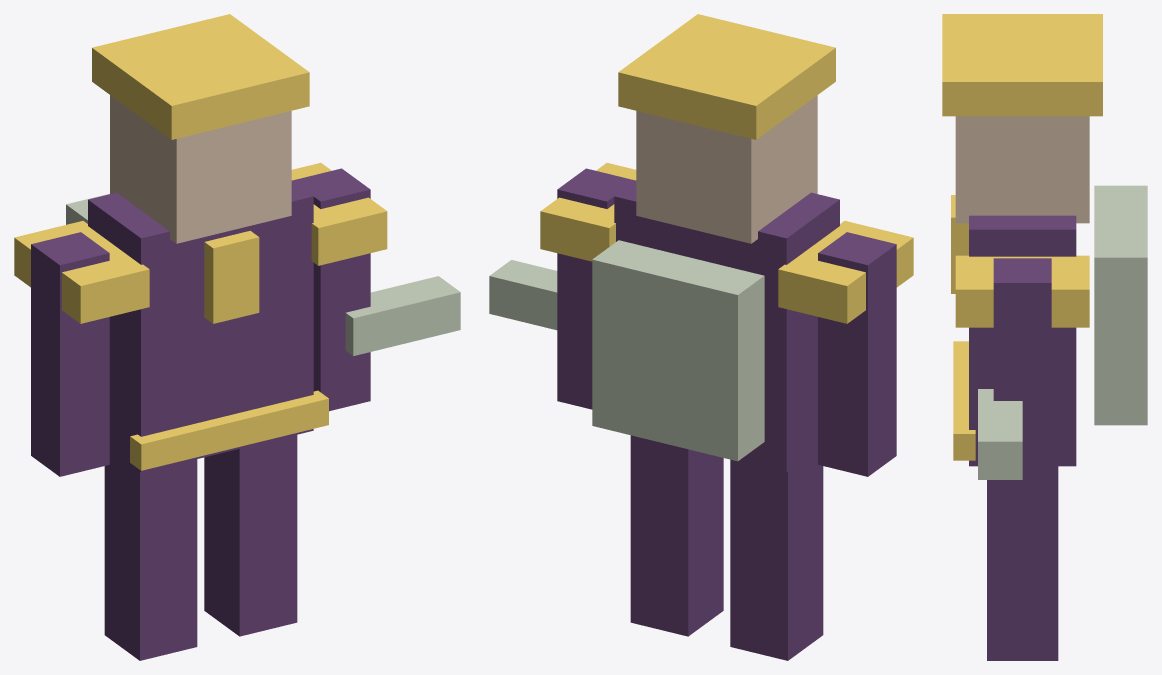
The model's file is 14_sarai_mossguard_marshal_near_cold.glb.
3 views of the same model, side by side, from view 1: azimuth 30°, elevation 25°; view 2: azimuth 150°, elevation 25°; view 3: azimuth 270°, elevation 25° (orthographic).
Visible parts, largest first — view 1: Sarai Mossguard, Marshal near Cold; view 2: Sarai Mossguard, Marshal near Cold; view 3: Sarai Mossguard, Marshal near Cold.
Part boxes in pixels (x1=…): Sarai Mossguard, Marshal near Cold: x1=14, y1=14, x2=460, y2=660; Sarai Mossguard, Marshal near Cold: x1=489, y1=14, x2=913, y2=660; Sarai Mossguard, Marshal near Cold: x1=942, y1=14, x2=1147, y2=660.
Bounding box in the file's own units: 1.02 × 1.41 × 0.4579.
